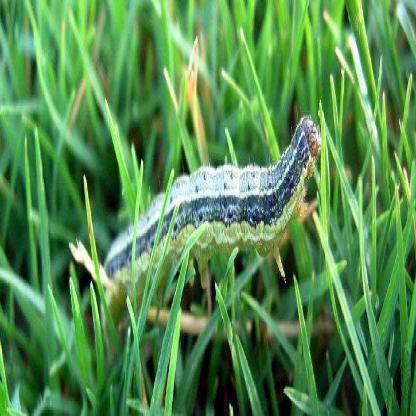armyworm: (91, 115, 319, 315)
